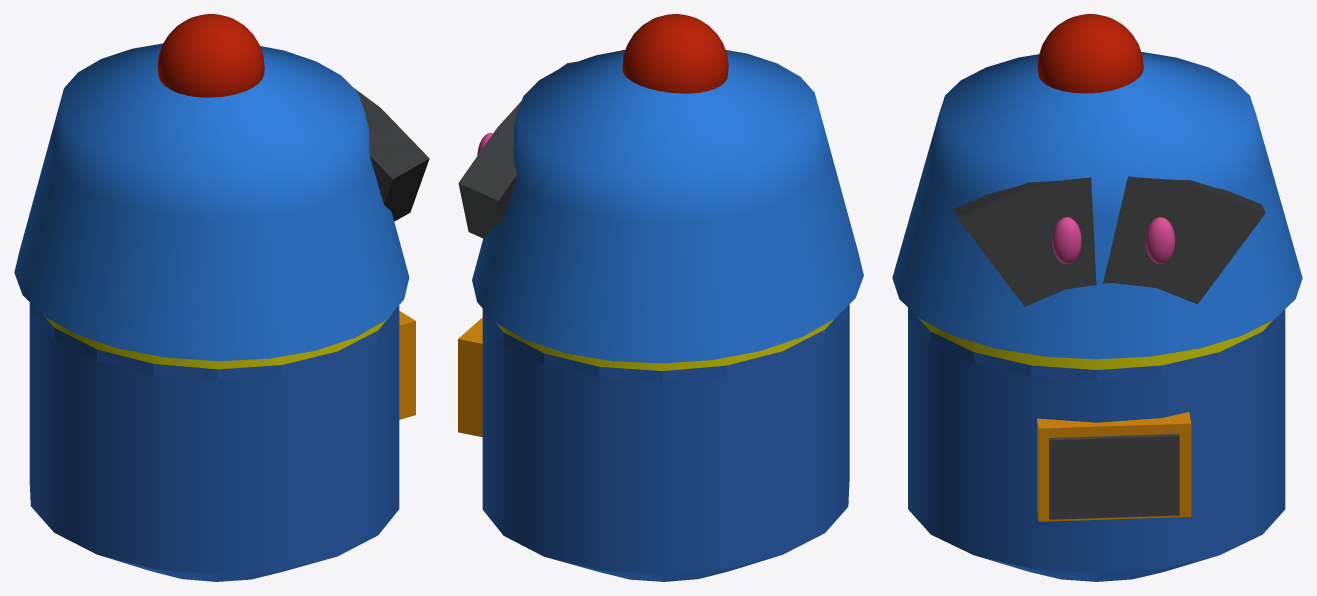
Rendered from Thinkie.fbx.
3 views of the same model, side by side, from view 1: azimuth 30°, elevation 25°; view 2: azimuth 150°, elevation 25°; view 3: azimuth 270°, elevation 25° (orthographic).
Visible parts, largest first — view 1: Cone002, Cylinder001, Sphere002, Box001, Cylinder002, Box002; view 2: Cone002, Cylinder001, Sphere002, Box001, Box002, Cylinder002; view 3: Cone002, Cylinder001, Box001, Box003, Sphere002, Box002, Cylinder002, Sphere003, Sphere004.
Boxes of the visible parts, x1,y1,x2,y2 form: Cone002: [14, 43, 409, 361]; Cylinder001: [29, 302, 399, 581]; Sphere002: [157, 14, 264, 97]; Box001: [354, 88, 429, 221]; Cylinder002: [45, 313, 391, 369]; Box002: [399, 311, 415, 419]; Cone002: [472, 50, 863, 363]; Cylinder001: [482, 304, 849, 581]; Sphere002: [622, 14, 728, 93]; Box001: [458, 61, 576, 238]; Box002: [458, 317, 482, 437]; Cylinder002: [496, 319, 833, 370]; Cone002: [892, 52, 1302, 359]; Cylinder001: [908, 308, 1285, 581]; Box001: [953, 176, 1265, 306]; Box003: [1049, 433, 1179, 519]; Sphere002: [1037, 14, 1143, 93]; Box002: [1037, 412, 1191, 521]; Cylinder002: [917, 316, 1272, 369]; Sphere003: [1052, 217, 1081, 264]; Sphere004: [1145, 217, 1175, 264].
Bounding box in the file's own units: 12.38 × 17.85 × 12.82.
8 materials, 8 textured.
